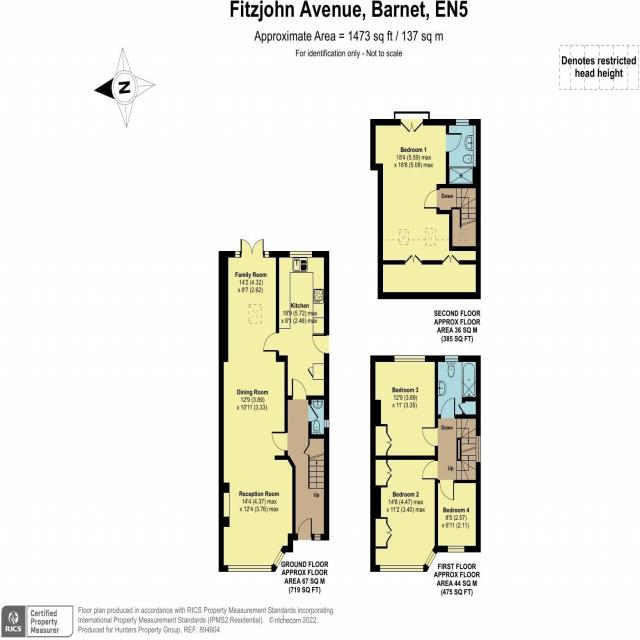DOOR: (297, 518, 313, 541), (312, 334, 330, 354), (421, 459, 438, 480), (421, 426, 438, 447), (445, 132, 462, 153), (271, 431, 288, 452), (440, 397, 456, 419), (291, 378, 307, 400), (439, 480, 455, 501), (263, 331, 279, 352), (424, 189, 440, 209), (308, 404, 319, 422)
DOUBLE DOOR: (240, 237, 265, 258)
ROOM: (218, 237, 296, 571), (370, 111, 481, 265), (262, 251, 329, 400), (370, 455, 438, 573), (370, 355, 438, 460), (434, 480, 481, 553)
WINDOW: (379, 565, 424, 572), (228, 565, 272, 572), (424, 549, 437, 569), (273, 549, 285, 568), (394, 355, 426, 362), (475, 435, 481, 463), (289, 251, 312, 258), (447, 545, 465, 553), (444, 355, 459, 362), (456, 119, 470, 126), (314, 534, 321, 541), (324, 419, 329, 428), (235, 251, 240, 258), (264, 251, 269, 258)
